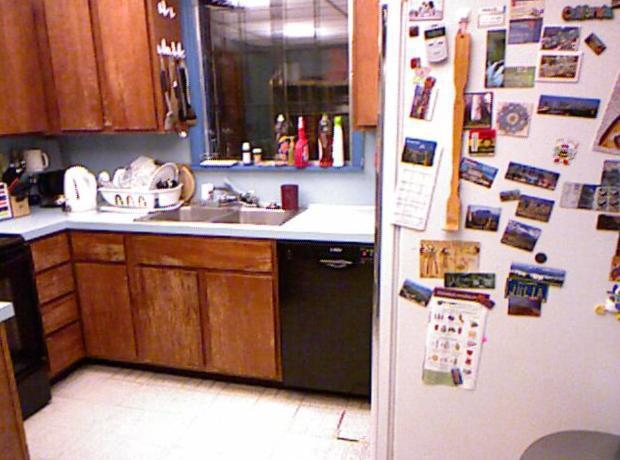Electrodomestico: (383, 0, 616, 459), (275, 237, 369, 398), (0, 225, 53, 423)
Lavaplatos: (123, 173, 313, 243)
